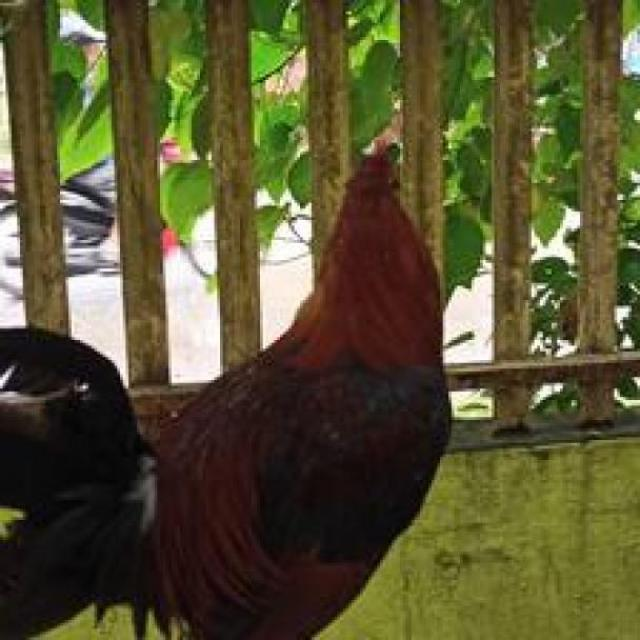Chicken: (0, 127, 477, 640)
